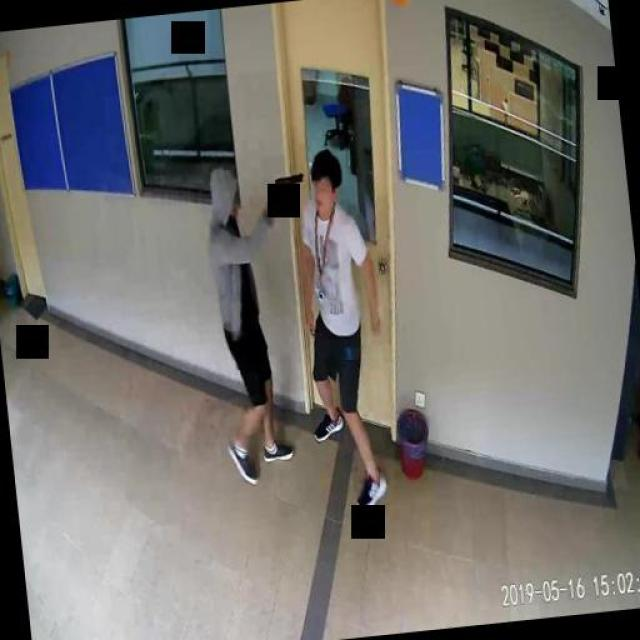gun: (273, 172, 305, 210)
